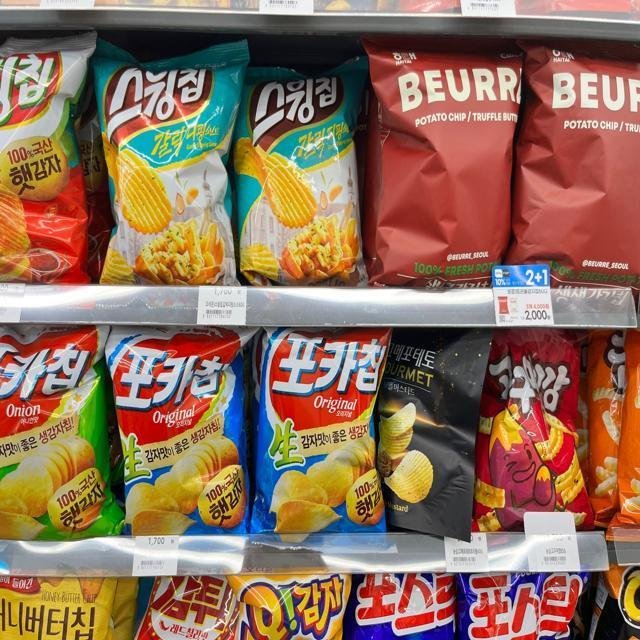product: (90, 47, 238, 286), (367, 46, 518, 274), (106, 329, 250, 539), (518, 44, 640, 288), (261, 326, 394, 548), (247, 66, 367, 275), (482, 333, 594, 528), (2, 330, 103, 544)
